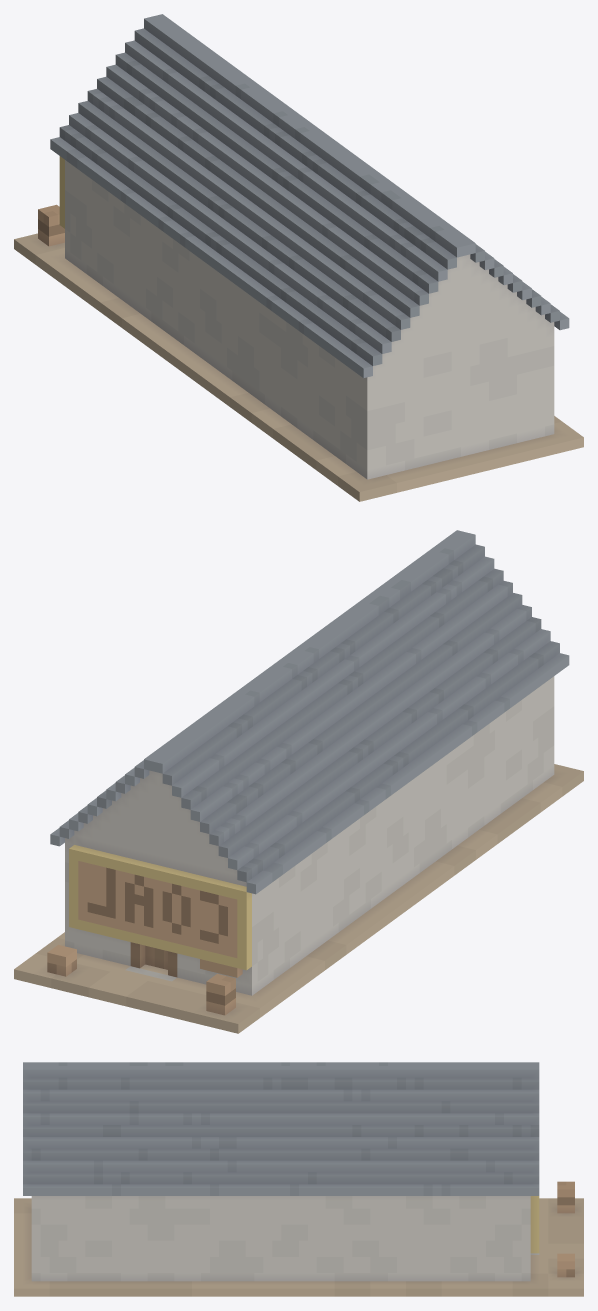
File: coal_mine.glb
The picture shows the model from 3 angles, top to bottom: view 1: azimuth 30°, elevation 25°; view 2: azimuth 150°, elevation 25°; view 3: azimuth 270°, elevation 25°; orthographic projection. The views are drawn at different scales.
Parts seen in each view (by area): view 1: coal_mine; view 2: coal_mine; view 3: coal_mine.
Boxes of the visible parts, x1,y1,x2,y2 form: coal_mine: (14,14,583,501); coal_mine: (14,530,583,1033); coal_mine: (14,1062,583,1296).
Size of the model in its own units: 3 by 2.88 by 8.
